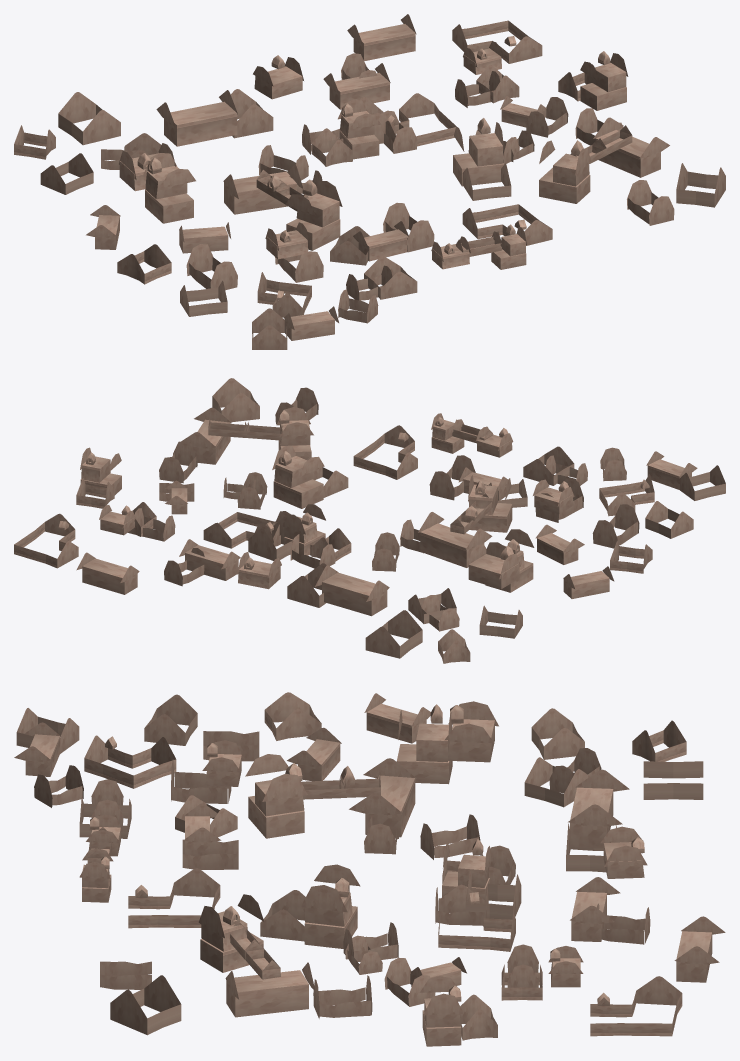
File: WallsBlock.FBX
The picture shows the model from 3 angles, top to bottom: view 1: azimuth 30°, elevation 25°; view 2: azimuth 150°, elevation 25°; view 3: azimuth 270°, elevation 25°; orthographic projection. The views are drawn at different scales.
Visible parts, largest first — view 1: Plane121; view 2: Plane121; view 3: Plane121.
Boxes of the visible parts, box(x1,y1,x2,y2) form: Plane121: box(14, 14, 725, 349); Plane121: box(14, 378, 725, 663); Plane121: box(14, 692, 725, 1046).
Bounding box in the file's own units: 10978 × 1052 × 10064.
